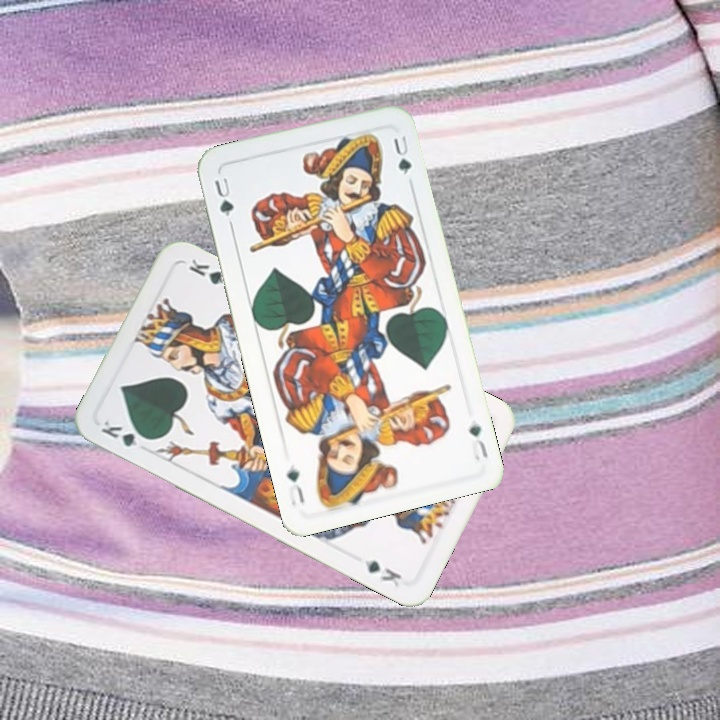GK: (97, 416, 154, 453)
GU: (210, 171, 237, 219), (464, 420, 490, 463)
